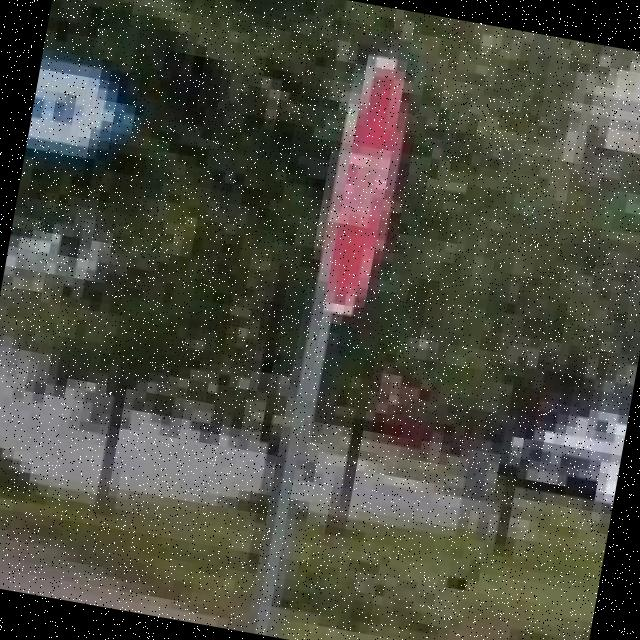Stop: (312, 52, 416, 318)
